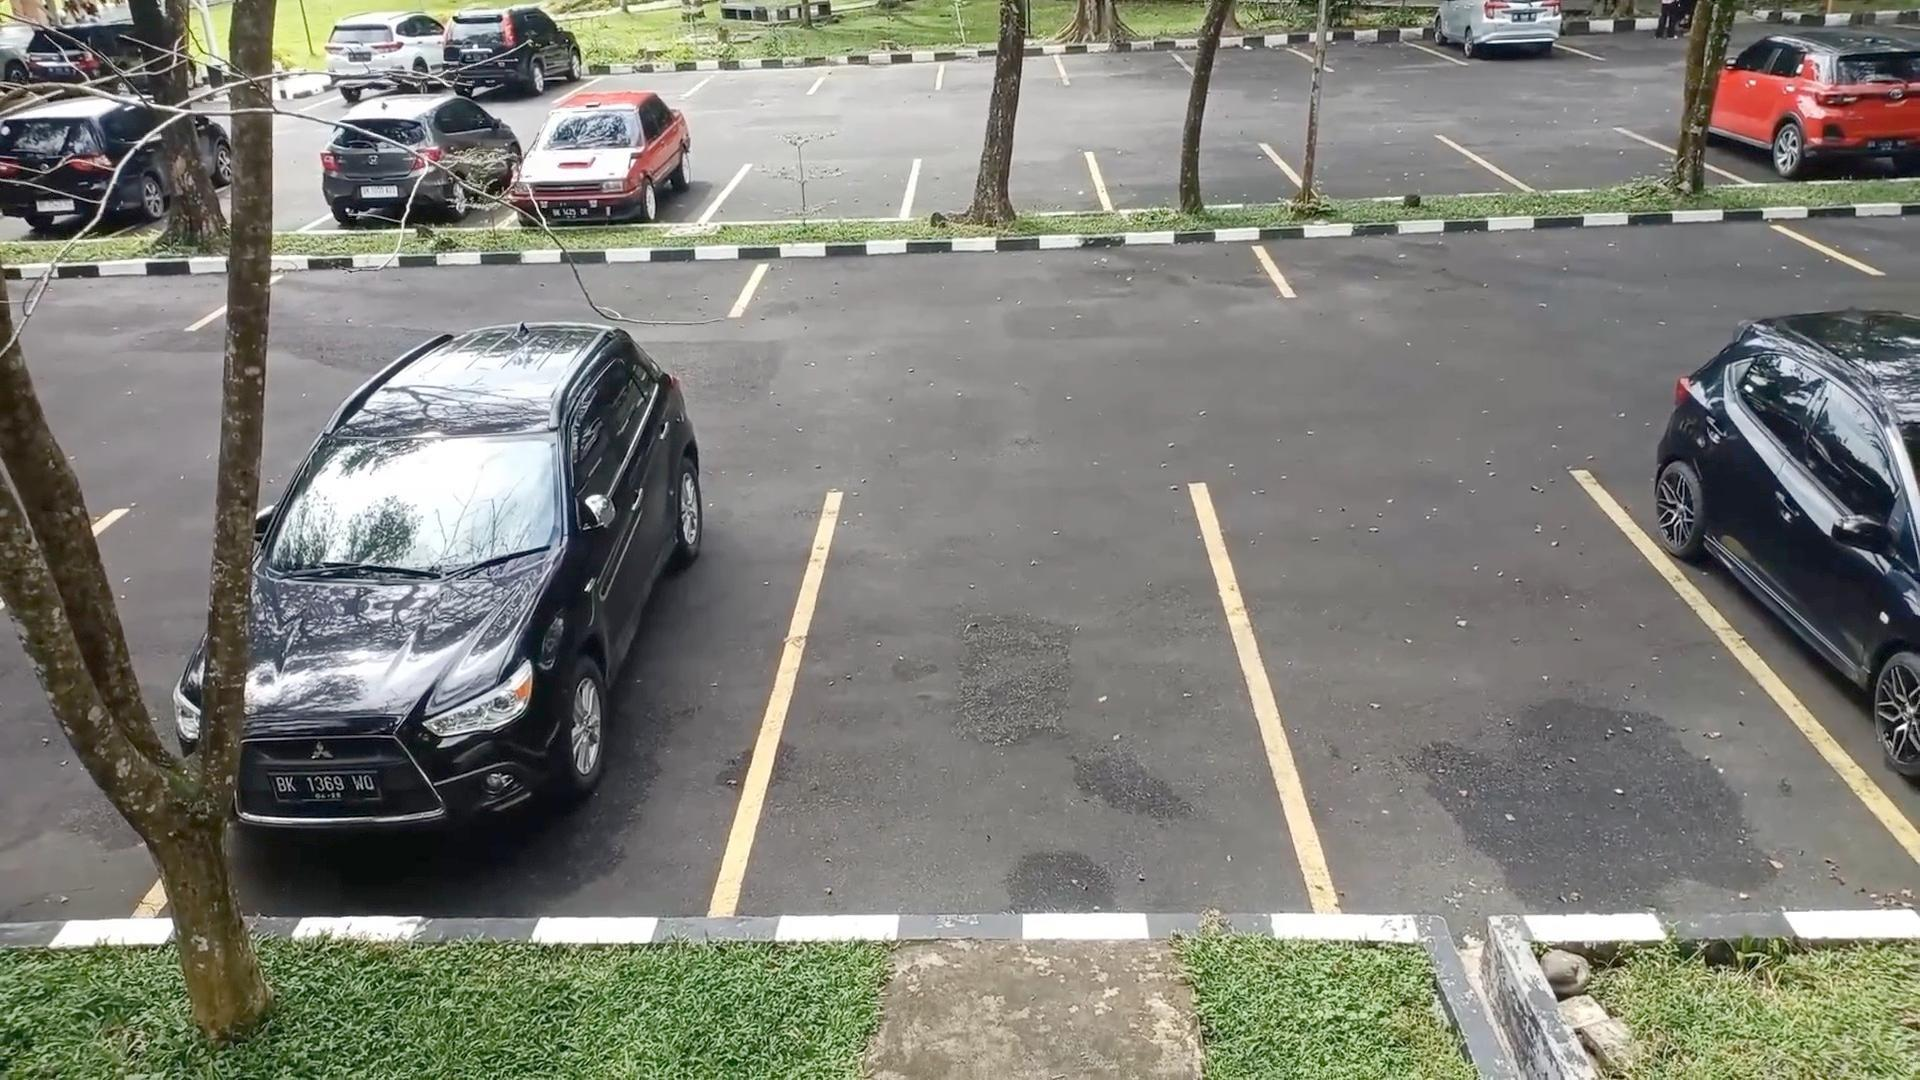empty: (758, 484, 1269, 912), (1256, 474, 1692, 911), (1273, 215, 1824, 308), (742, 234, 1273, 317), (1096, 142, 1303, 210), (723, 153, 920, 220), (912, 151, 1106, 218), (1490, 123, 1676, 192), (1308, 131, 1488, 196), (810, 30, 942, 100), (938, 27, 1062, 92), (1062, 26, 1193, 87), (1310, 23, 1427, 76), (690, 51, 816, 100)
occupied: (244, 404, 760, 912), (1656, 398, 1920, 858), (1706, 47, 1920, 185), (507, 101, 726, 228), (1429, 0, 1595, 66)
